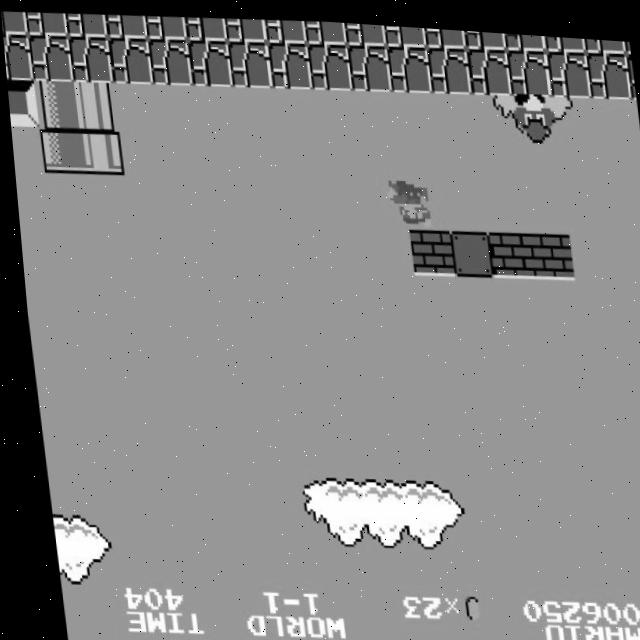1- brick_block: (524, 224, 570, 273), (484, 224, 530, 273), (404, 222, 450, 271)
11- little_mario: (382, 174, 430, 225)
14- pipe: (71, 79, 117, 129), (31, 79, 77, 128)
15- pipe_head: (36, 124, 82, 174), (76, 125, 122, 174)
17- undestructible_block: (584, 43, 631, 92), (425, 40, 472, 89), (385, 39, 432, 88), (345, 38, 392, 87), (465, 40, 511, 90), (306, 37, 352, 87), (66, 33, 112, 83), (545, 42, 591, 91), (505, 41, 551, 90), (266, 37, 312, 86), (226, 36, 272, 85), (186, 36, 232, 85), (146, 35, 192, 84), (106, 34, 152, 83), (26, 33, 72, 82), (2, 32, 32, 80), (104, 11, 148, 38), (263, 14, 307, 40), (64, 11, 108, 37), (24, 10, 68, 36), (224, 14, 267, 40), (184, 13, 227, 39), (144, 12, 187, 38), (303, 16, 347, 41), (343, 18, 387, 42), (383, 20, 426, 42), (423, 22, 466, 43), (503, 26, 546, 45), (463, 24, 506, 43), (543, 28, 586, 46), (1, 10, 27, 35), (583, 31, 626, 46), (625, 44, 635, 91), (623, 33, 630, 45)
3- empty_block: (444, 223, 490, 272)
8- goomba: (510, 84, 559, 136)
9- hard_block: (5, 78, 37, 126)
